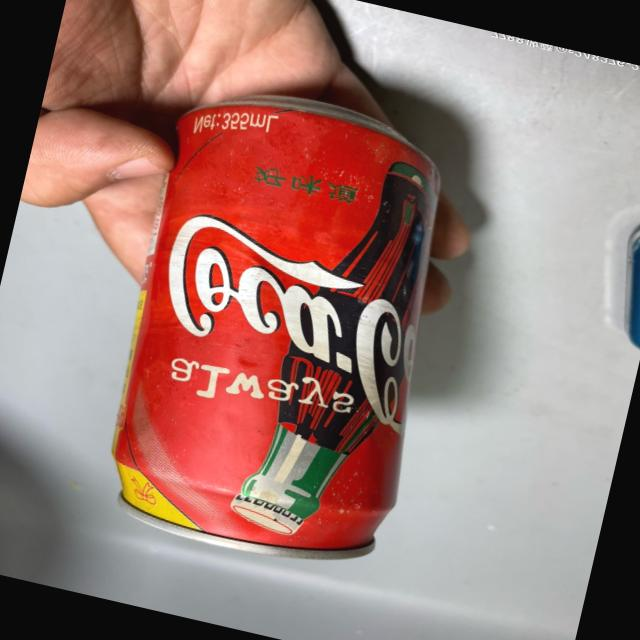can: (80, 67, 482, 587)
